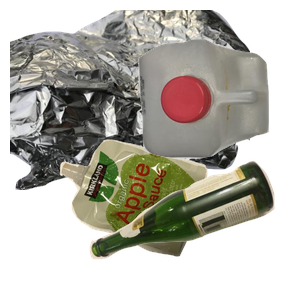glass: (87, 158, 300, 300)
metal: (10, 10, 250, 190)
plastic: (136, 37, 300, 188)
trash: (57, 137, 257, 300)
